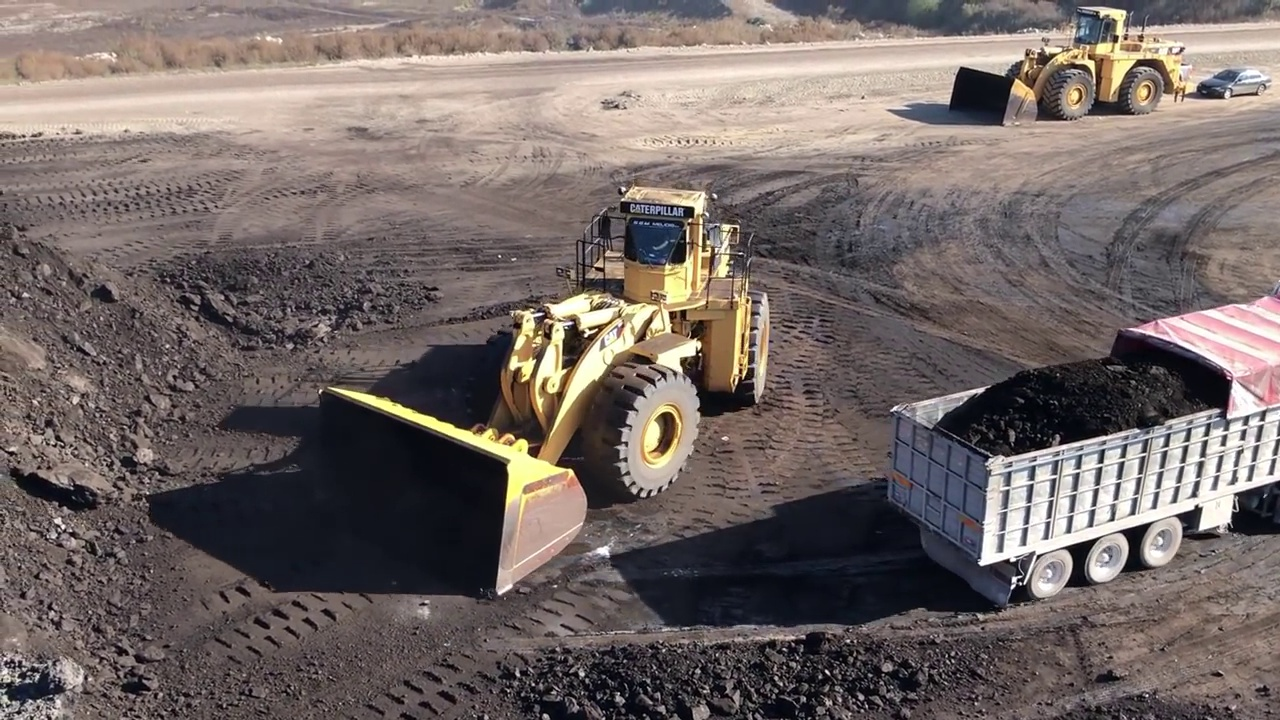car: (1198, 68, 1266, 98)
truck: (880, 294, 1280, 605)
wheel loader: (319, 186, 769, 597), (949, 5, 1190, 125)
